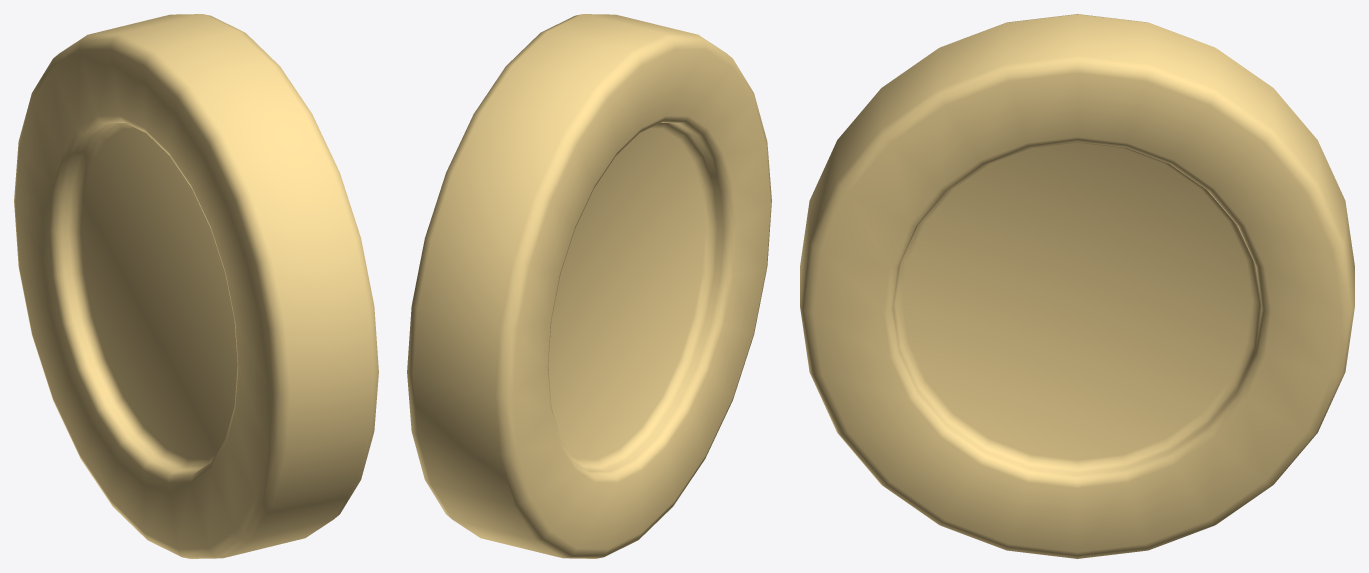
Rendered from Coin-object.glb.
3 renders of one model, left to right at view 1: azimuth 30°, elevation 25°; view 2: azimuth 150°, elevation 25°; view 3: azimuth 270°, elevation 25°, orthographic. The views are drawn at different scales.
Parts seen in each view (by area): view 1: defaultMaterial.002; view 2: defaultMaterial.002; view 3: defaultMaterial.002.
Boxes of the visible parts, x1,y1,x2,y2 form: defaultMaterial.002: [14, 14, 378, 558]; defaultMaterial.002: [407, 14, 771, 558]; defaultMaterial.002: [800, 14, 1354, 558].
Bounding box in the file's own units: 5.38 × 24.08 × 24.08.
Materials: 1 (1 with a texture image).
